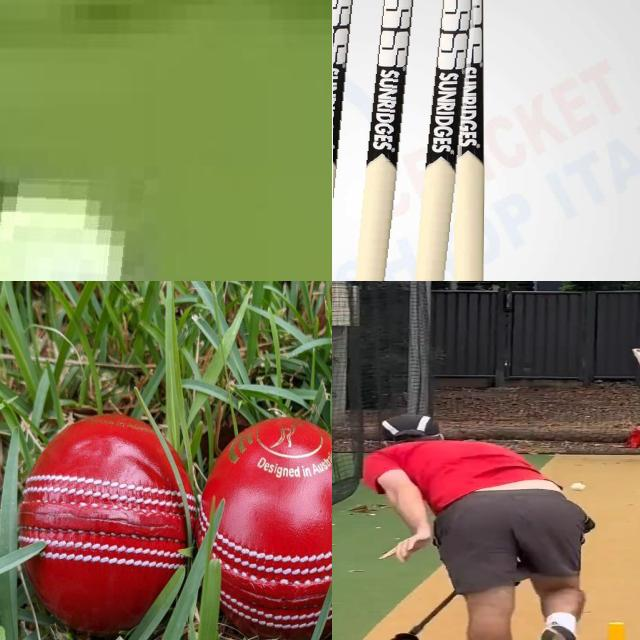Cricket ball: (11, 401, 198, 638), (195, 401, 332, 640), (0, 176, 144, 281), (569, 481, 588, 492)
Stumps: (332, 0, 488, 281)
